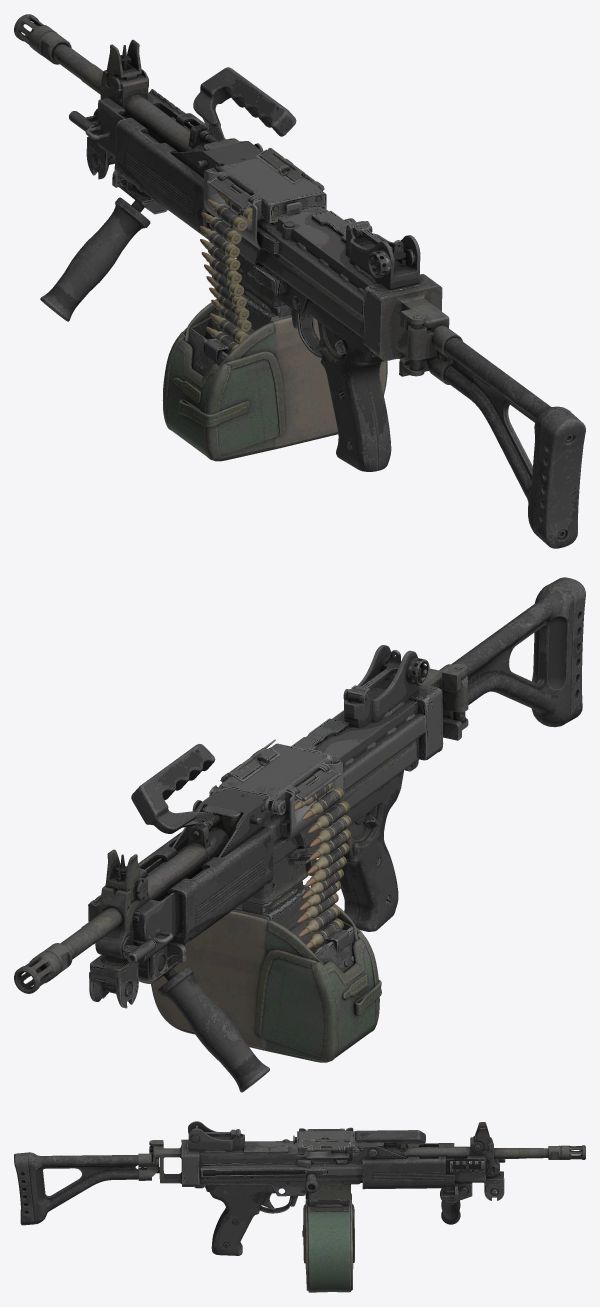
Rendered from negev_r.glb.
3 views of the same model, one above another, from view 1: azimuth 30°, elevation 25°; view 2: azimuth 150°, elevation 25°; view 3: azimuth 270°, elevation 25° (orthographic). The views are drawn at different scales.
Visible parts, largest first — view 1: v_negev_R; view 2: v_negev_R; view 3: v_negev_R.
Part boxes in pixels (x1,y1,x2,y2): v_negev_R: (14,14,585,548); v_negev_R: (14,577,585,1092); v_negev_R: (14,1121,585,1292).
Size of the model in its own units: 0.2262 by 0.302 by 1.01.
Materials: 1 (1 with a texture image).
